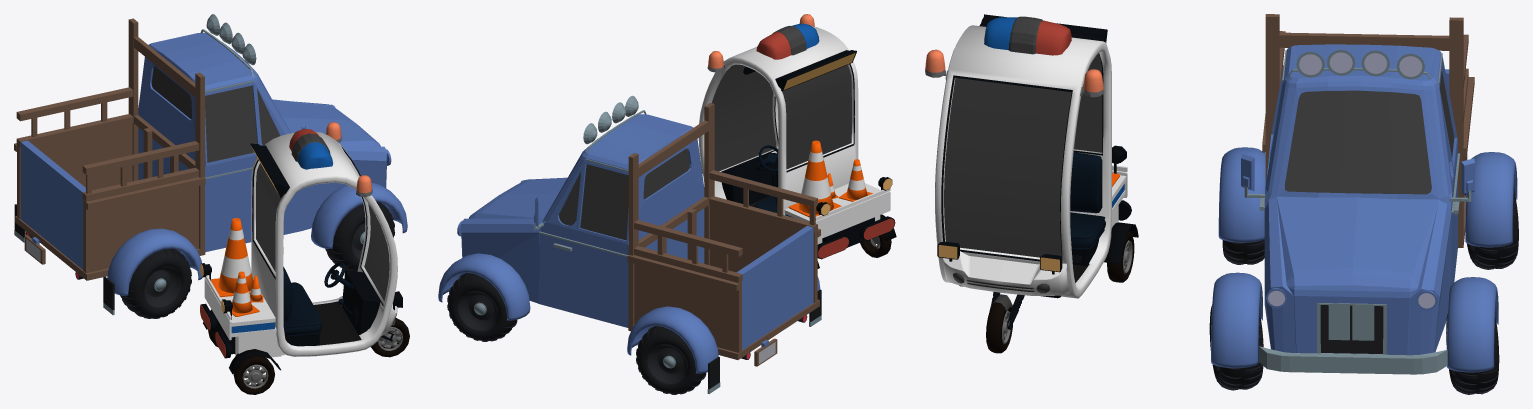
File: cars.glb
3 views of the same model, side by side, from view 1: azimuth 30°, elevation 25°; view 2: azimuth 150°, elevation 25°; view 3: azimuth 270°, elevation 25° (orthographic). The views are drawn at different scales.
Visible parts, largest first — view 1: Cube.013_Cube.074, Base_Cylinder.021, Side_right_Cube.053, Back_Cube.089, Side_left_Cube.054, Cube.017_Cube.070, Wing_1.002_Cylinder.040, Wing_1_Cylinder.043, Cube.029_Cube.086, Hood_Cube.065, Wheel_1.011_Cylinder.057, Base.002_Cylinder.027 (+33 smaller); view 2: Cube.013_Cube.074, Base_Cylinder.021, Base.001_Cylinder.019, Base.002_Cylinder.027, Back_Cube.089, Side_left_Cube.054, Cube.029_Cube.086, Side_right_Cube.053, Cube.016_Cube.071, Wing_1.001_Cylinder.042, Wing_1.003_Cylinder.034, Hood_Cube.065 (+28 smaller); view 3: Base.001_Cylinder.019, Hood_Cube.065, Cube.014_Cube.073, Base_Cylinder.021, Cube.013_Cube.074, Cube.029_Cube.086, Wing_1.001_Cylinder.042, Wing_1_Cylinder.043, Wing_1.003_Cylinder.034, Front_bumper_Cube.066, Wing_1.002_Cylinder.040, Soot_Cube.019 (+23 smaller).
Part boxes in pixels (x1,y1,x2,y2): Cube.013_Cube.074: (138, 32, 301, 252); Base_Cylinder.021: (251, 132, 397, 356); Side_right_Cube.053: (83, 186, 198, 272); Back_Cube.089: (20, 148, 83, 269); Side_left_Cube.054: (17, 123, 132, 218); Cube.017_Cube.070: (205, 85, 257, 162); Wing_1.002_Cylinder.040: (107, 228, 202, 295); Wing_1_Cylinder.043: (311, 182, 407, 248); Cube.029_Cube.086: (272, 99, 387, 230); Hood_Cube.065: (272, 99, 380, 146); Wheel_1.011_Cylinder.057: (122, 249, 191, 318); Base.002_Cylinder.027: (256, 163, 283, 271); Cube.013_Cube.074: (538, 114, 704, 327); Base_Cylinder.021: (698, 26, 858, 215); Base.001_Cylinder.019: (712, 64, 776, 171); Base.002_Cylinder.027: (782, 65, 851, 169); Back_Cube.089: (742, 233, 813, 349); Side_left_Cube.054: (634, 264, 741, 352); Cube.029_Cube.086: (461, 177, 565, 303); Side_right_Cube.053: (710, 205, 817, 302); Cube.016_Cube.071: (580, 164, 628, 240); Wing_1.001_Cylinder.042: (438, 253, 530, 320); Wing_1.003_Cylinder.034: (627, 306, 718, 373); Hood_Cube.065: (469, 177, 567, 218); Base.001_Cylinder.019: (944, 78, 1071, 257); Hood_Cube.065: (1276, 196, 1439, 355); Cube.014_Cube.073: (1285, 90, 1431, 194); Base_Cylinder.021: (935, 25, 1111, 298); Cube.013_Cube.074: (1264, 44, 1457, 284); Cube.029_Cube.086: (1264, 197, 1451, 355); Wing_1.001_Cylinder.042: (1446, 277, 1498, 372); Wing_1_Cylinder.043: (1211, 272, 1262, 368); Wing_1.003_Cylinder.034: (1465, 152, 1517, 247); Front_bumper_Cube.066: (1259, 346, 1447, 374); Wing_1.002_Cylinder.040: (1218, 147, 1265, 242); Soot_Cube.019: (942, 251, 1070, 295).
Bounding box in the file's own units: 1.47 × 1.02 × 1.89.
